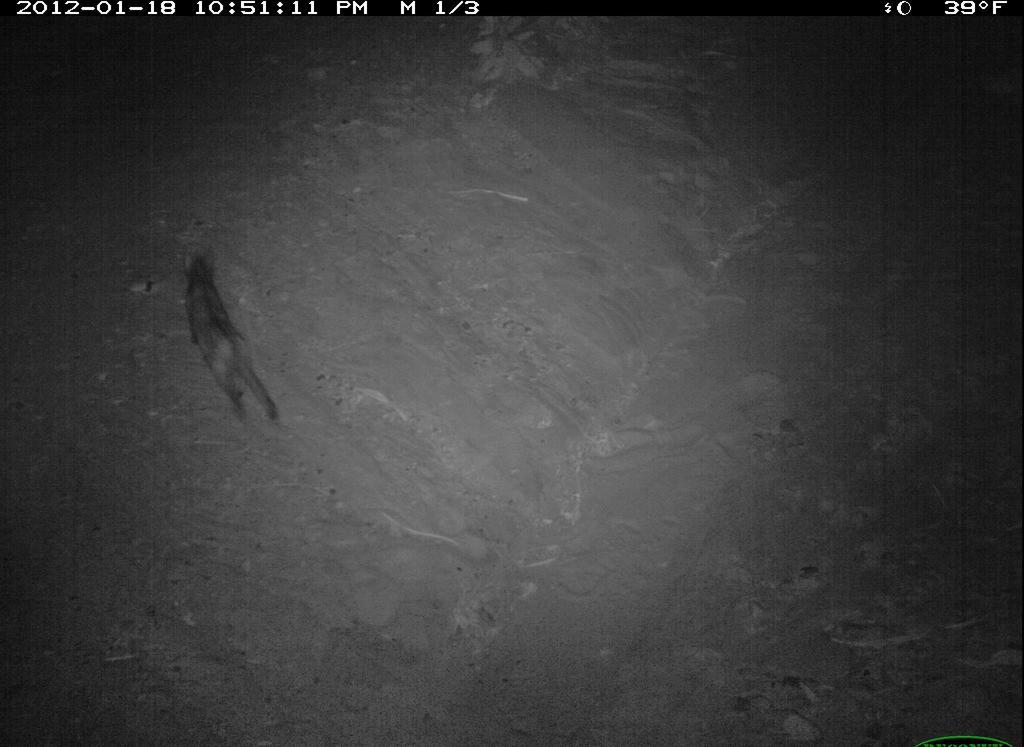cat: (167, 226, 293, 437)
